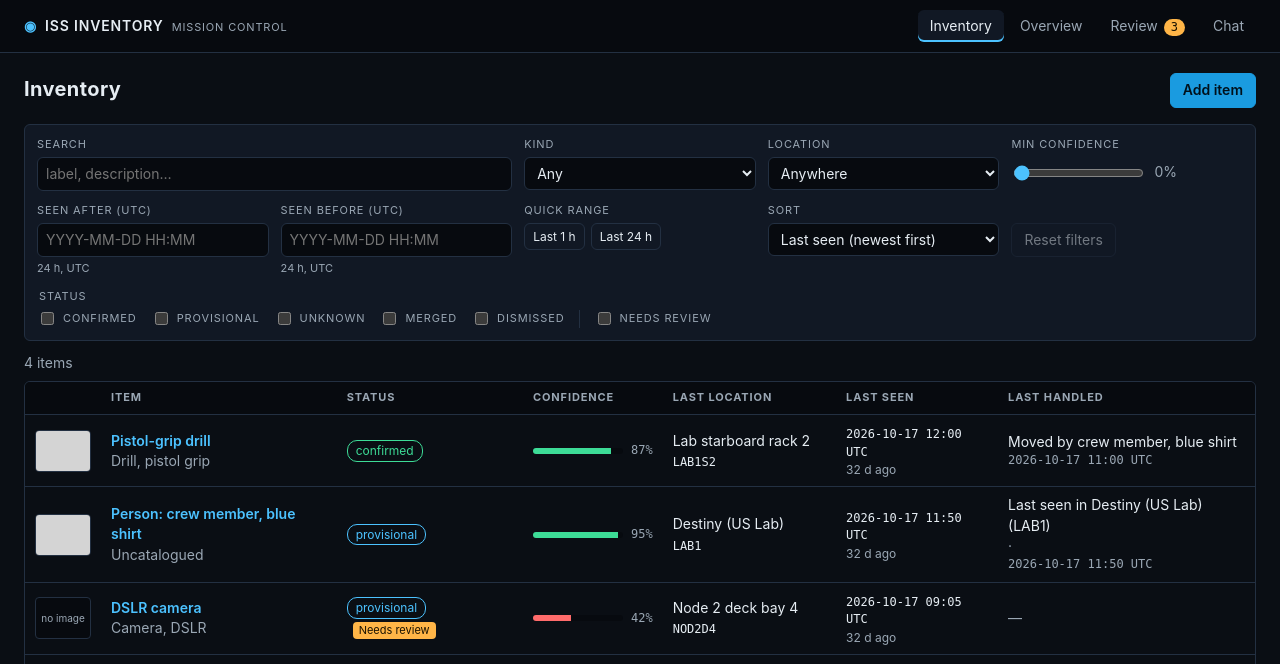
AC-UI-9 recent events feed › AC-UI-9 overview is reachable from the nav
Click the link "Overview" at (1051, 26), box x1=1020 y1=17 x2=1082 y2=34
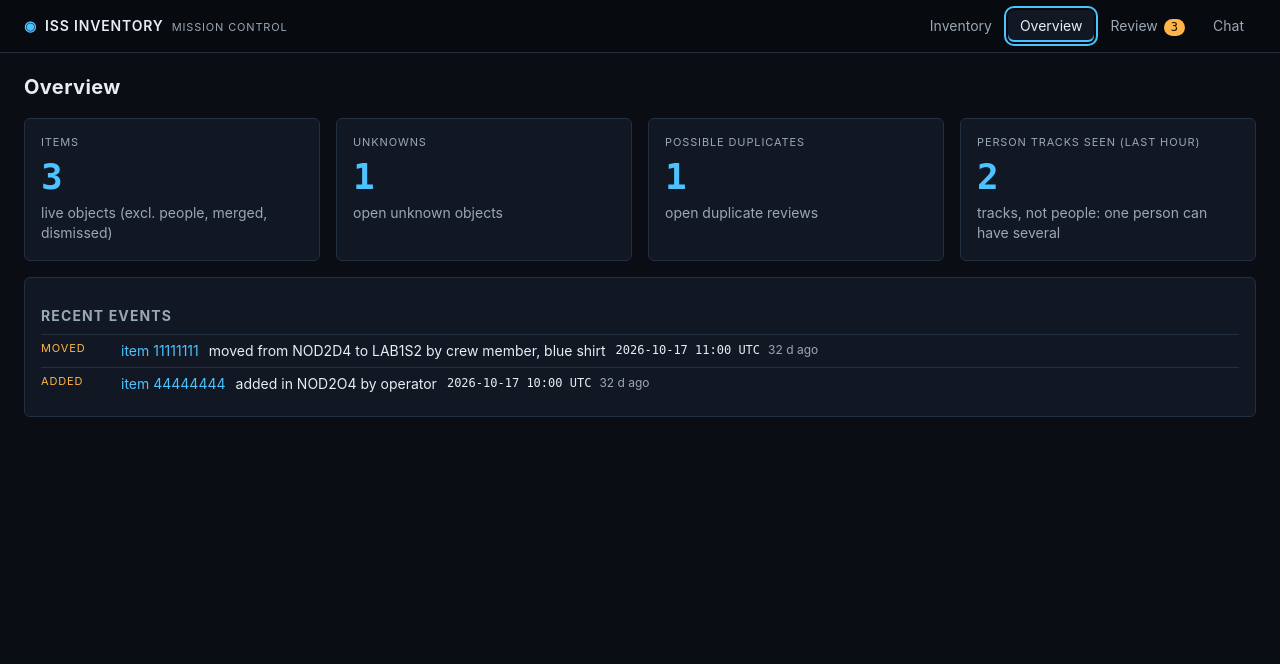
Expected: the list named "recent events" is shown, x1=41 y1=334 x2=1239 y2=400
